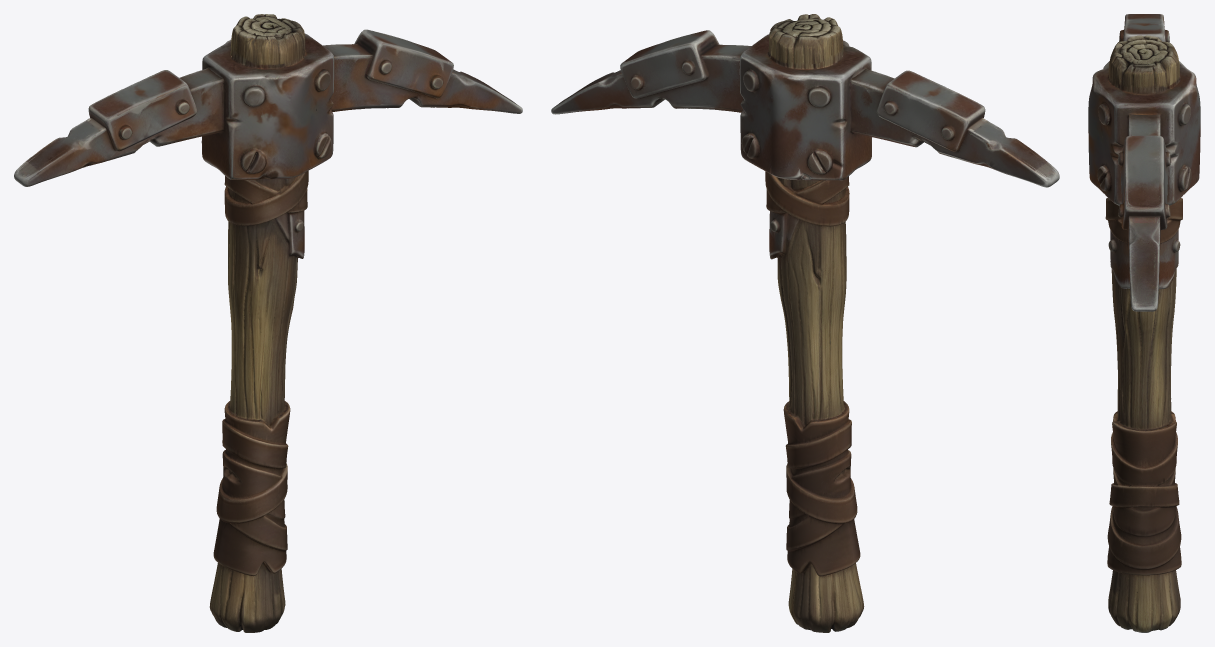
The model's file is Meshy_AI_Scrap_Pickaxe_Model_0217090316_texture.fbx.
3 views of the same model, side by side, from view 1: azimuth 30°, elevation 25°; view 2: azimuth 150°, elevation 25°; view 3: azimuth 270°, elevation 25° (orthographic).
Visible parts, largest first — view 1: Mesh_0; view 2: Mesh_0; view 3: Mesh_0.
Part boxes in pixels (x1,y1,x2,y2): Mesh_0: (14, 14, 522, 632); Mesh_0: (551, 14, 1059, 632); Mesh_0: (1088, 14, 1200, 632).
Bounding box in the file's own units: 168 × 190 × 33.21.
Materials: 1 (1 with a texture image).
